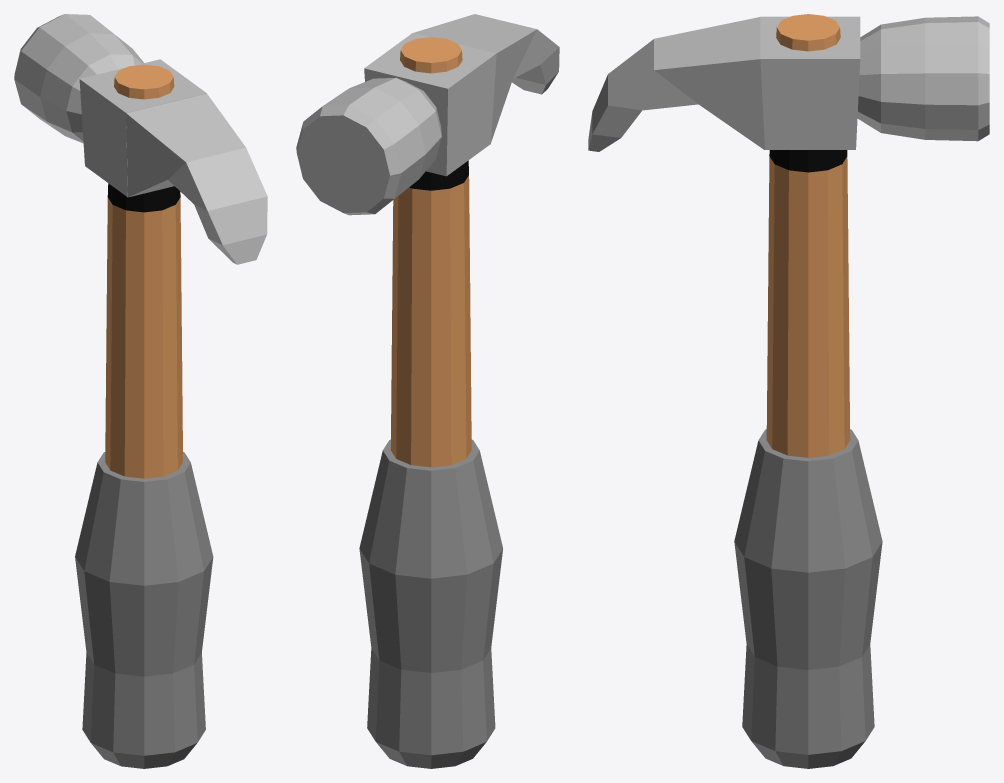
Rendered from hammer.fbx.
3 views of the same model, side by side, from view 1: azimuth 30°, elevation 25°; view 2: azimuth 150°, elevation 25°; view 3: azimuth 270°, elevation 25° (orthographic). The views are drawn at different scales.
Parts seen in each view (by area): view 1: Cylinder, Cube.001; view 2: Cylinder, Cube.001; view 3: Cylinder, Cube.001.
Boxes of the visible parts, x1,y1,x2,y2 form: Cylinder: (75,64,213,768); Cube.001: (14,14,267,264); Cylinder: (359,37,502,768); Cube.001: (296,14,559,215); Cylinder: (734,14,882,768); Cube.001: (588,16,989,151).
Size of the model in its own units: 0.406 by 2.19 by 1.1.
